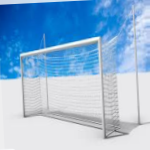goals: (18, 33, 129, 139)
